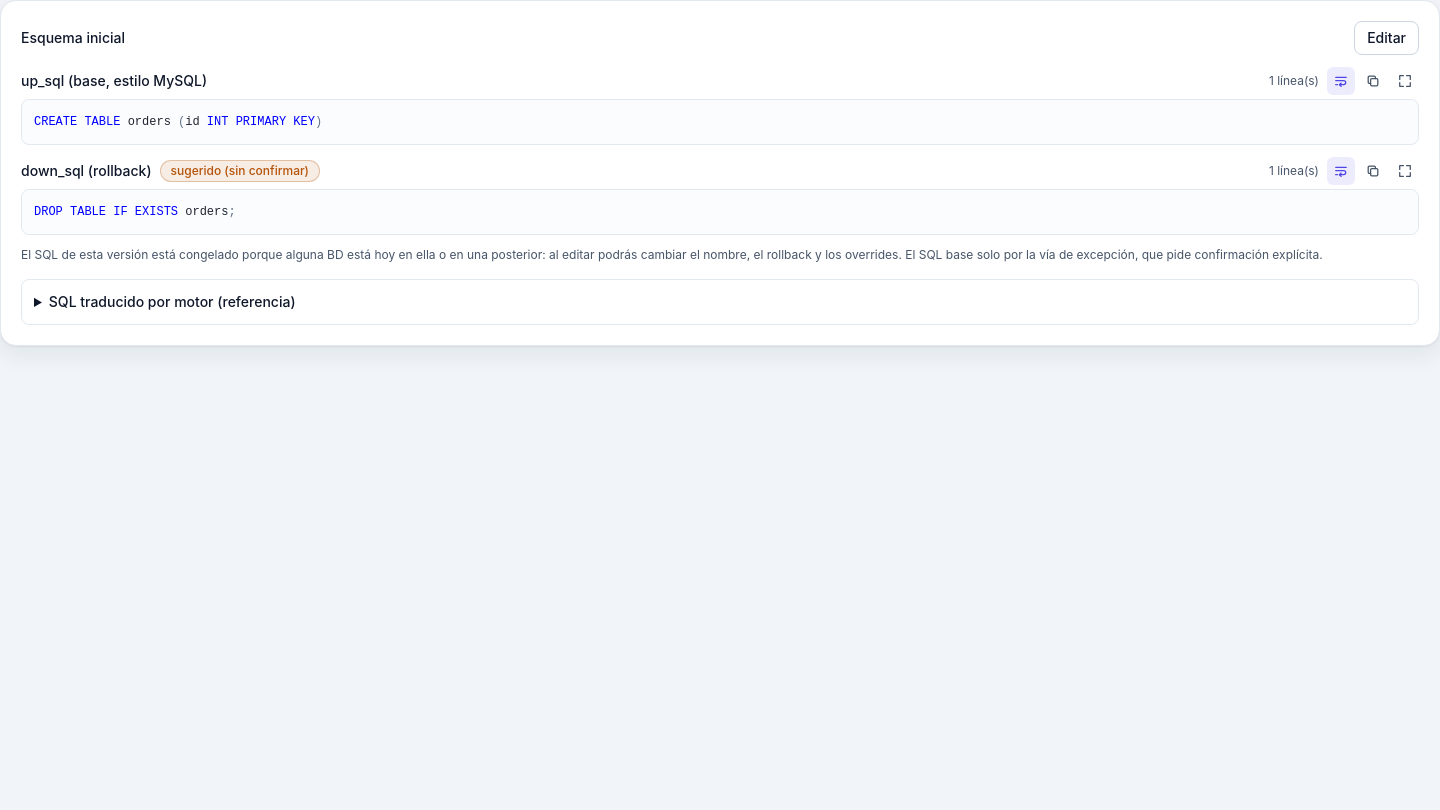
Test: ModelMigrationDetailPanel › el bloqueo del up_sql llega del backend, no de un 409 posterior
The image size is (1440, 810).
What coordinates should you click on to do the following:
click the button "Editar"
I would click on:
 (1387, 38)
Its box is [1354,21,1419,55].
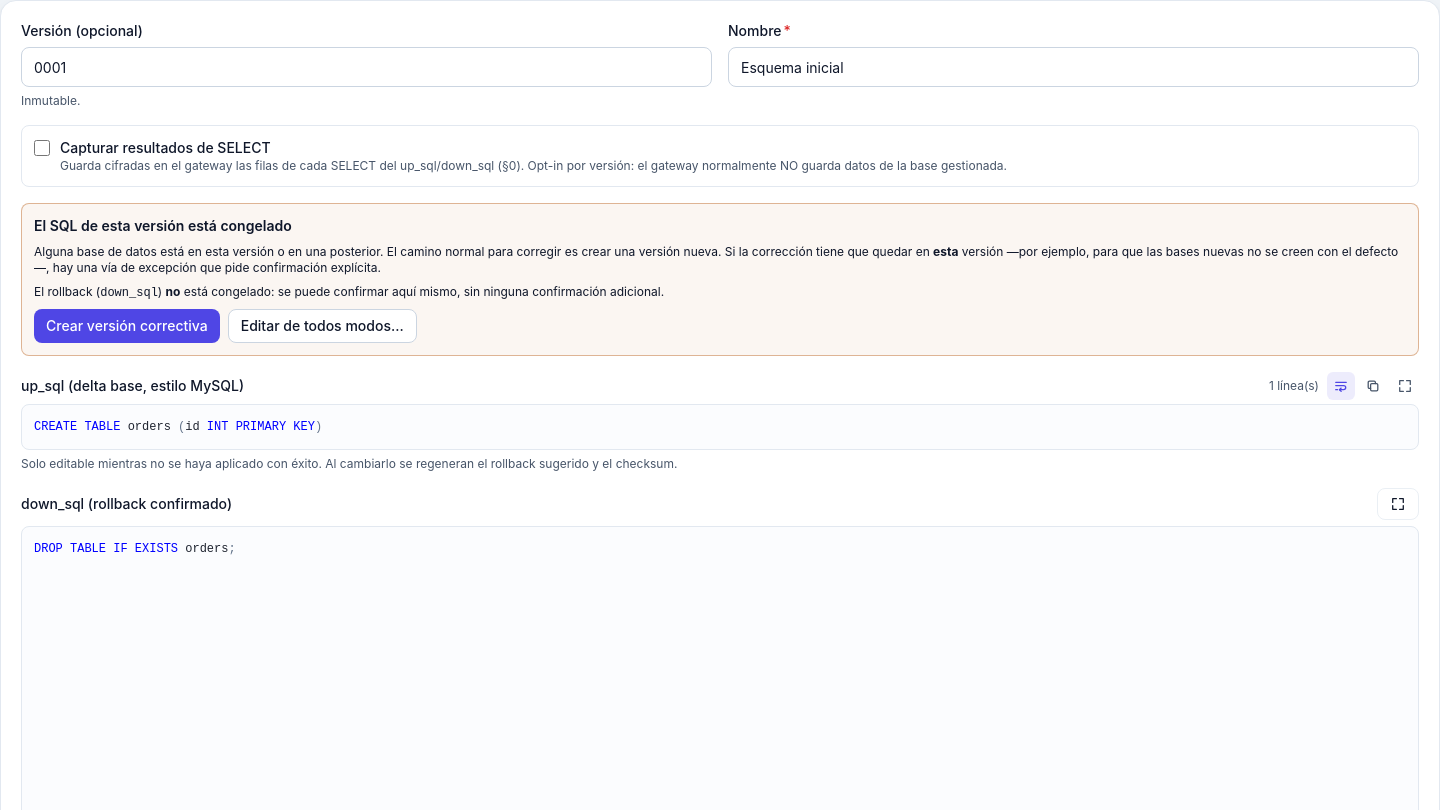
Check: the text "El camino normal para corregir es crear una versión nueva" is shown, box [34,244,930,259]
Check: the button "Crear versión correctiva" is shown, box [34,309,220,343]
